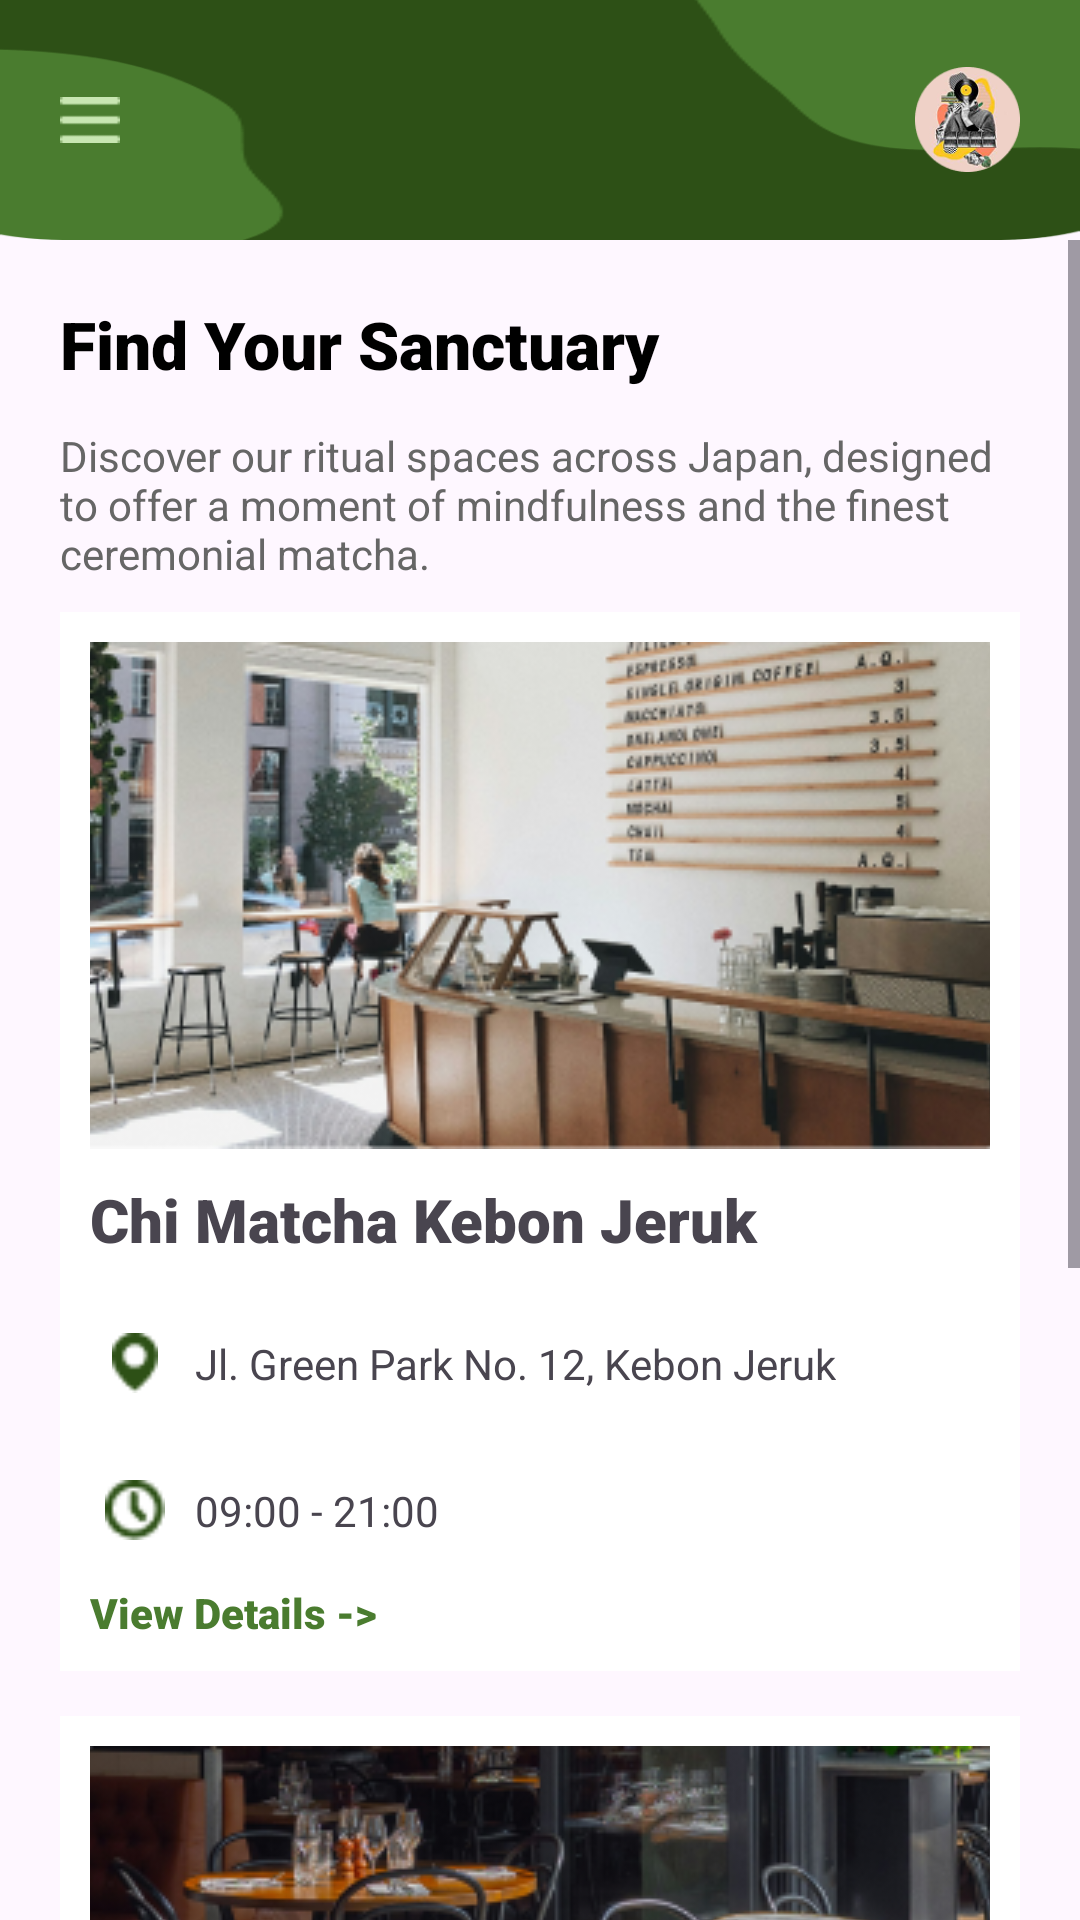

Icons on this 1080*1920 Android screen, each with the point to tap as (x=x, y=y):
clock: (x=135, y=1510)
location: (x=135, y=1363)
